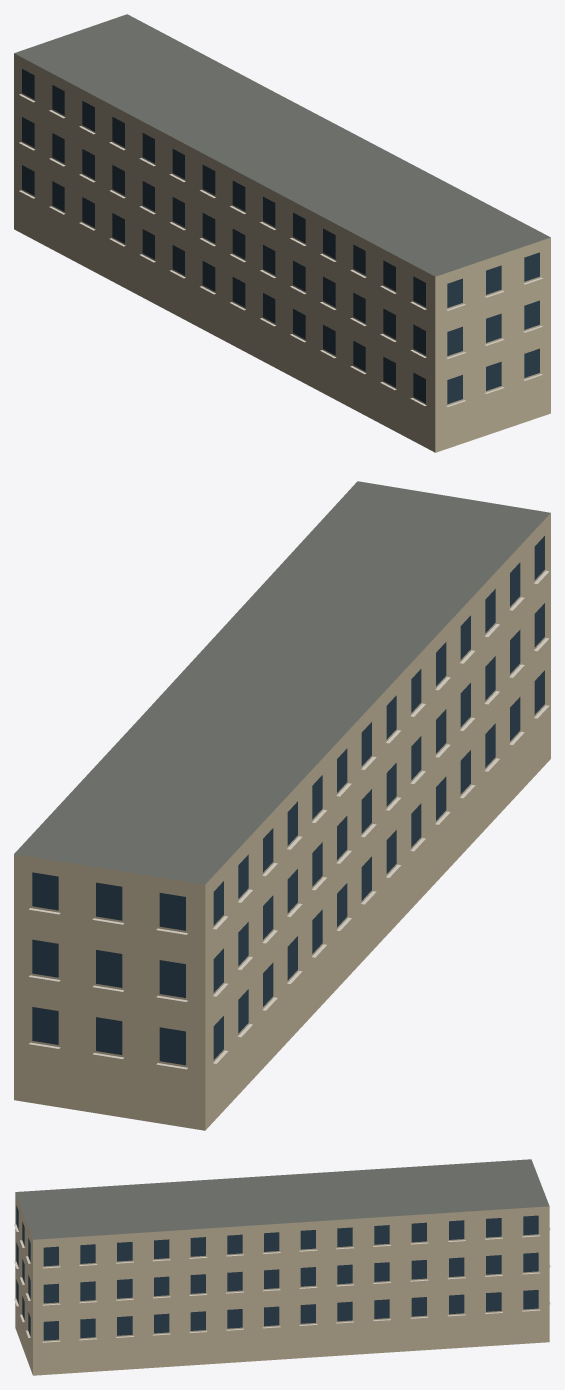
3 views of the same model, one above another, from view 1: azimuth 30°, elevation 25°; view 2: azimuth 150°, elevation 25°; view 3: azimuth 270°, elevation 25° (orthographic). The views are drawn at different scales.
Parts seen in each view (by area): view 1: Footprint 0, Inferred window bays, Window sills; view 2: Footprint 0, Inferred window bays, Window sills; view 3: Footprint 0, Inferred window bays, Window sills.
Boxes of the visible parts, bbox=[...] form: Footprint 0: bbox=[14, 14, 550, 452]; Inferred window bays: bbox=[22, 69, 539, 404]; Window sills: bbox=[19, 94, 542, 406]; Footprint 0: bbox=[14, 481, 550, 1130]; Inferred window bays: bbox=[32, 536, 544, 1065]; Window sills: bbox=[29, 570, 549, 1069]; Footprint 0: bbox=[15, 1159, 549, 1375]; Inferred window bays: bbox=[16, 1205, 538, 1340]; Window sills: bbox=[14, 1224, 550, 1342].
Bounding box in the file's own units: 15.46 × 11.97 × 42.86.
